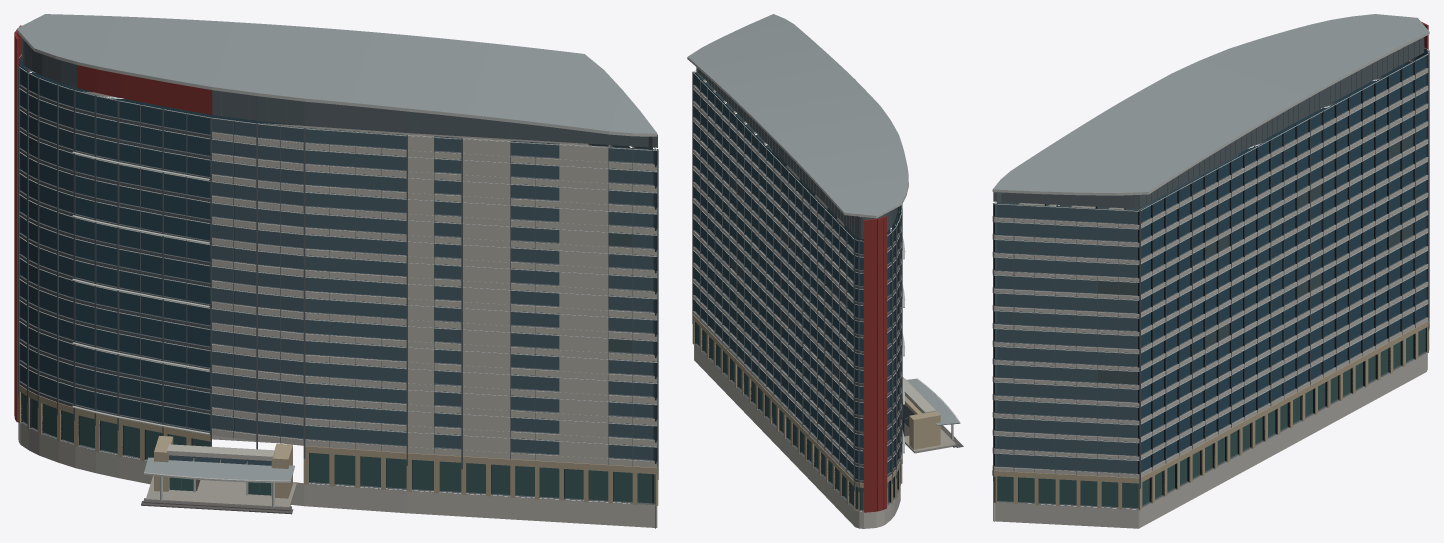
The model's file is menara_razak_lod1.glb.
The picture shows the model from 3 angles, left to right: view 1: azimuth 30°, elevation 25°; view 2: azimuth 150°, elevation 25°; view 3: azimuth 270°, elevation 25°; orthographic projection. The views are drawn at different scales.
Parts seen in each view (by area): view 1: Precast, GlassSteel, GlassBlue, RoofSeam, Anodized, Silver, GlassLobby, Louvers, Sandstone, Wine, Shadow, RoofEdge (+2 smaller); view 2: GlassBlue, RoofSeam, Anodized, Precast, Shadow, Wine, Silver, Sandstone, Louvers, GlassLobby, GlassWarm, RoofEdge (+2 smaller); view 3: GlassBlue, Precast, RoofSeam, GlassSteel, Anodized, Shadow, Silver, GlassLobby, Sandstone, Louvers, GlassWarm, RoofEdge.
Boxes of the visible parts, x1,y1,x2,y2 form: Precast: (18,91,657,528); GlassSteel: (169,117,655,465); GlassBlue: (19,57,296,431); RoofSeam: (17,14,657,480); Anodized: (18,66,658,504); Silver: (19,54,657,507); GlassLobby: (23,394,654,503); Louvers: (22,38,657,150); Sandstone: (18,384,658,505); Wine: (14,25,212,422); Shadow: (19,66,657,503); RoofEdge: (16,29,657,136); GlassBlue: (695,73,900,480); RoofSeam: (688,14,958,425); Anodized: (692,70,958,511); Precast: (693,79,935,528); Shadow: (693,72,914,510); Wine: (863,216,886,512); Silver: (693,70,960,467); Sandstone: (692,314,940,511); Louvers: (696,67,897,238); GlassLobby: (696,323,893,510); GlassWarm: (694,139,846,386); RoofEdge: (687,57,908,218); GlassBlue: (1138,49,1427,471); Precast: (992,68,1428,528); RoofSeam: (993,14,1429,193); GlassSteel: (994,154,1238,473); Anodized: (993,39,1429,509); Shadow: (994,49,1428,507); Silver: (992,48,1428,460); GlassLobby: (995,328,1425,507); Sandstone: (992,318,1429,510); Louvers: (993,37,1424,209); GlassWarm: (1098,134,1413,384); RoofEdge: (992,32,1429,195).
Bounding box in the file's own units: 59.99 × 57.02 × 65.
